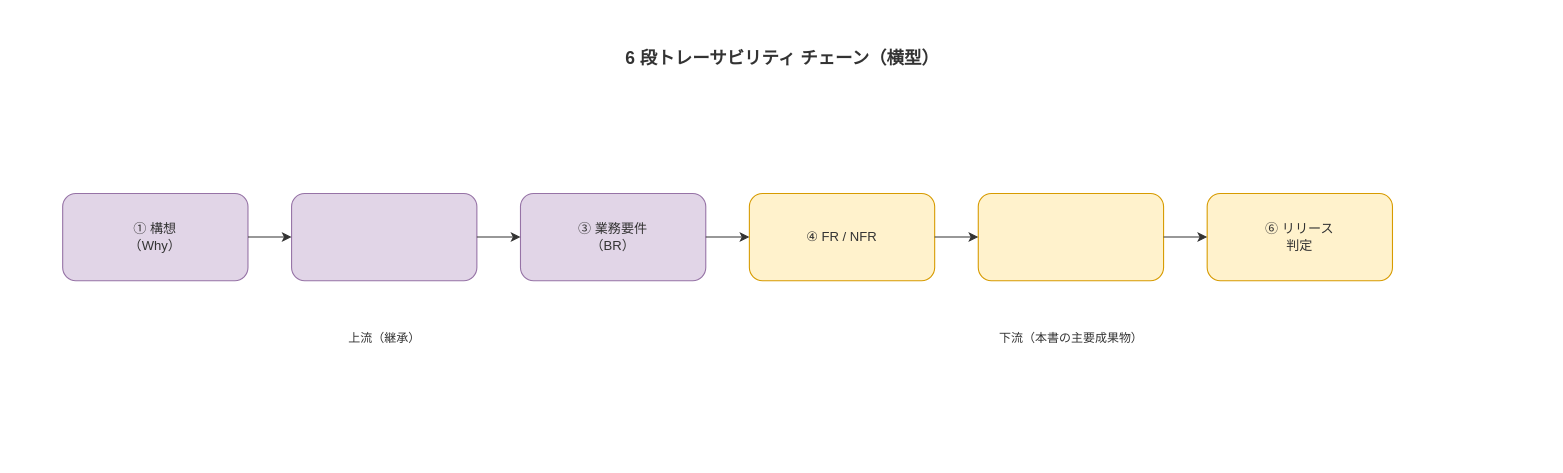
This 1563x473 diagram has some shape labels left out. The shapes that lost their labels are listed below. From the top down, each one's centre as x and y in pixels, then its label:
At (x=383, y=236): "② 計画 （What）".
At (x=1070, y=236): "⑤ 受入基準 （TST）".
